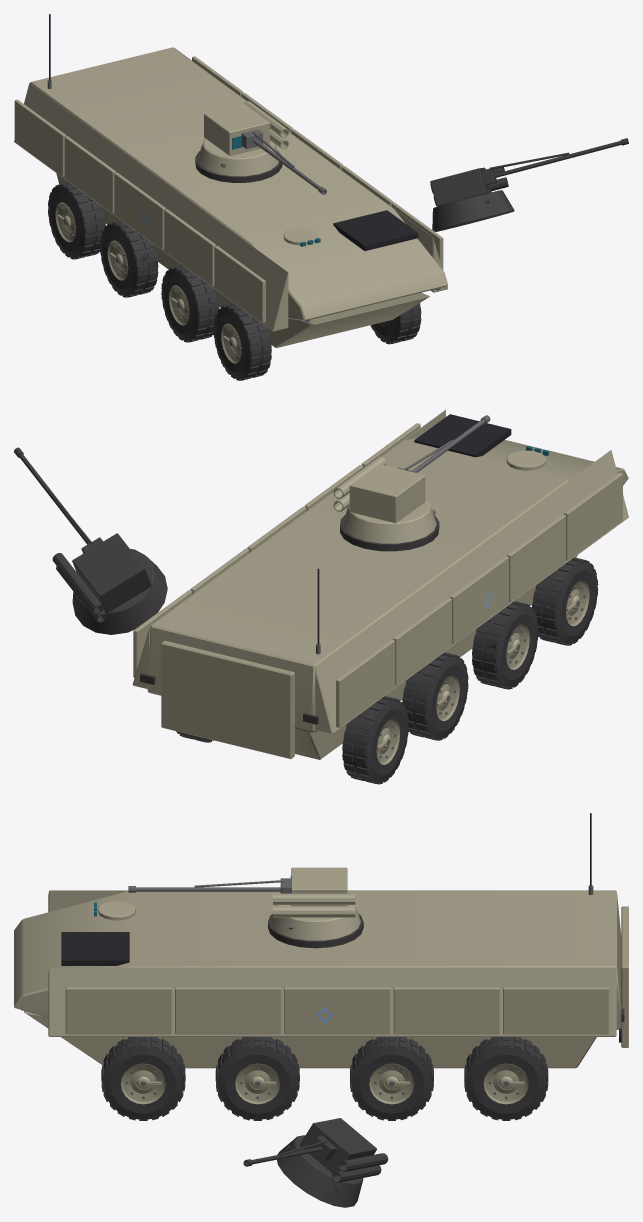
Rendered from apc__btr_4_m113.glb.
3 renders of one model, top to bottom at view 1: azimuth 30°, elevation 25°; view 2: azimuth 150°, elevation 25°; view 3: azimuth 270°, elevation 25°, orthographic. The views are drawn at different scales.
Parts seen in each view (by area): view 1: Hull_Mesh, Wreck, Turret_Mesh, Wheel_L3_Mesh, Wheel_L1_Mesh, Wheel_L2_Mesh, Wheel_L0_Mesh, Wheel_R3_Mesh, Gun_Mesh; view 2: Hull_Mesh, Wreck, Turret_Mesh, Wheel_L0_Mesh, Wheel_L2_Mesh, Wheel_L1_Mesh, Wheel_L3_Mesh, Gun_Mesh; view 3: Hull_Mesh, Wreck, Wheel_R3_Mesh, Wheel_R0_Mesh, Wheel_R2_Mesh, Wheel_R1_Mesh, Turret_Mesh, Gun_Mesh.
Boxes of the visible parts, left/top/right/bottom form: Hull_Mesh: left=14, top=14, right=448, bottom=347; Wreck: left=81, top=138, right=628, bottom=380; Turret_Mesh: left=197, top=101, right=289, bottom=176; Wheel_L3_Mesh: left=213, top=303, right=271, bottom=380; Wheel_L1_Mesh: left=100, top=220, right=158, bottom=297; Wheel_L2_Mesh: left=161, top=265, right=219, bottom=342; Wheel_L0_Mesh: left=48, top=182, right=105, bottom=259; Wheel_R3_Mesh: left=370, top=303, right=421, bottom=344; Gun_Mesh: left=241, top=129, right=326, bottom=194; Hull_Mesh: left=132, top=409, right=628, bottom=759; Wreck: left=14, top=447, right=549, bottom=782; Turret_Mesh: left=333, top=456, right=436, bottom=543; Wheel_L0_Mesh: left=342, top=696, right=408, bottom=784; Wheel_L2_Mesh: left=472, top=601, right=538, bottom=689; Wheel_L1_Mesh: left=402, top=652, right=468, bottom=740; Wheel_L3_Mesh: left=532, top=557, right=598, bottom=645; Gun_Mesh: left=397, top=415, right=490, bottom=472; Hull_Mesh: left=14, top=813, right=628, bottom=1068; Wreck: left=129, top=913, right=509, bottom=1207; Wheel_R3_Mesh: left=101, top=1037, right=185, bottom=1120; Wheel_R0_Mesh: left=464, top=1037, right=548, bottom=1120; Wheel_R2_Mesh: left=215, top=1037, right=299, bottom=1120; Wheel_R1_Mesh: left=350, top=1037, right=433, bottom=1120; Turret_Mesh: left=270, top=867, right=360, bottom=940; Gun_Mesh: left=128, top=878, right=291, bottom=893.
Size of what is drawn, in the model's own units: 7.46 by 3.31 by 8.07.
